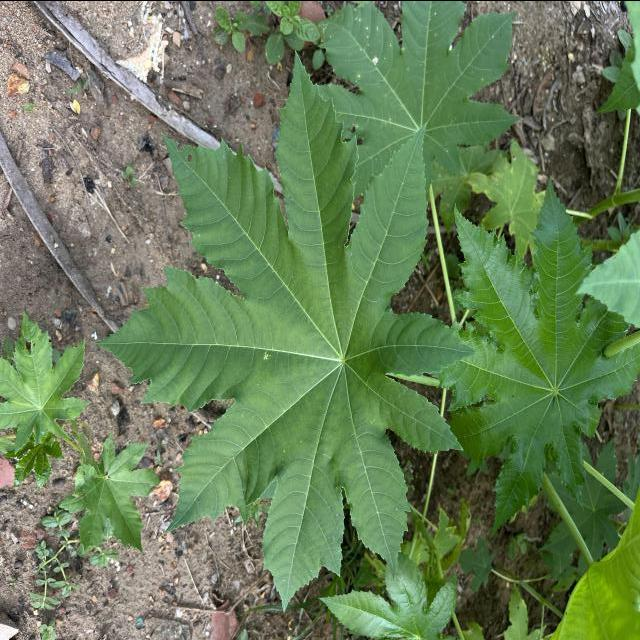Ricinus communis linn: (88, 40, 486, 617)
